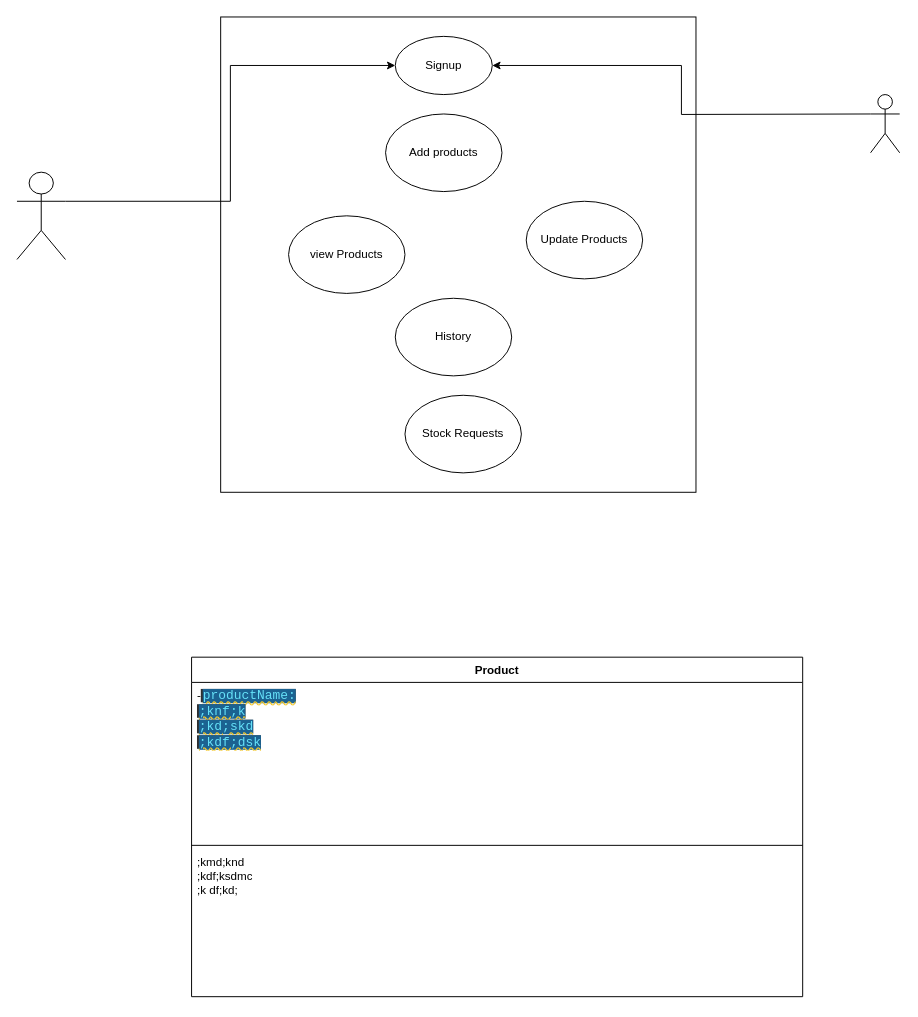
Some shapes in this 918 by 1017 pixel diagram are drawn without their labels. Each missing label, with the centre of its shape:
"admin" belongs at (885,123).
"Supplier" belongs at (40,215).
